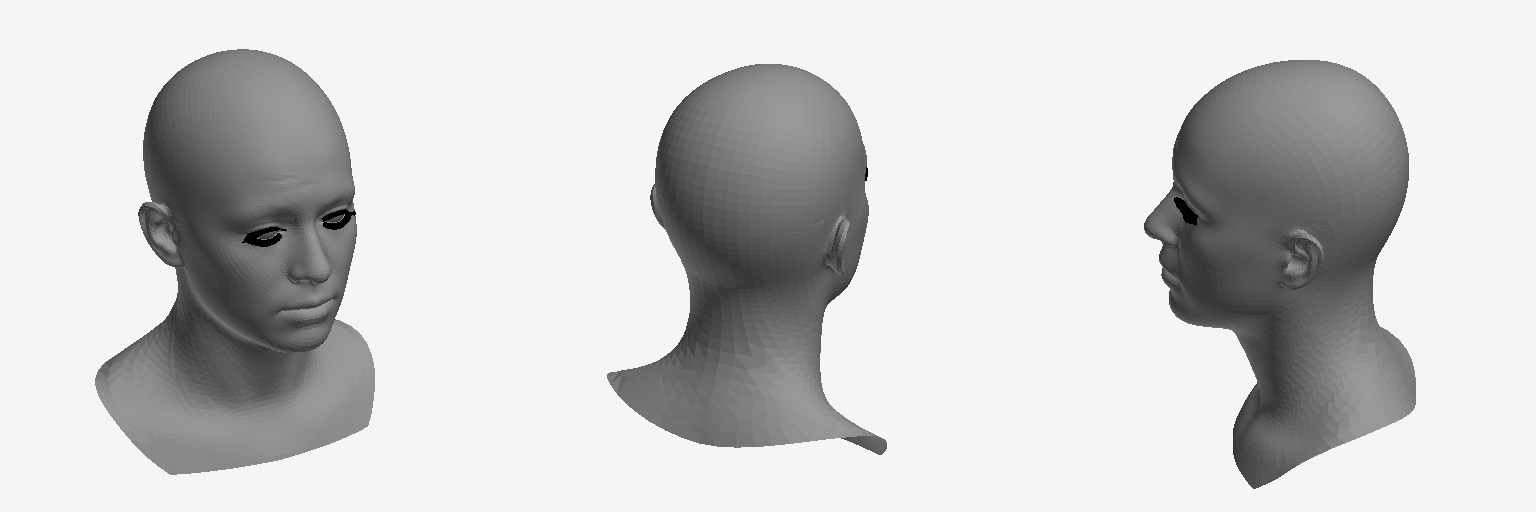
File: browInnerUp_R.obj
3 renders of one model, left to right at view 1: azimuth 30°, elevation 25°; view 2: azimuth 150°, elevation 25°; view 3: azimuth 270°, elevation 25°, orthographic.
Bounding box in the file's own units: 24.83 × 33.81 × 22.31.